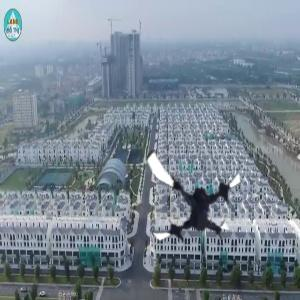drone: (132, 136, 251, 255)
